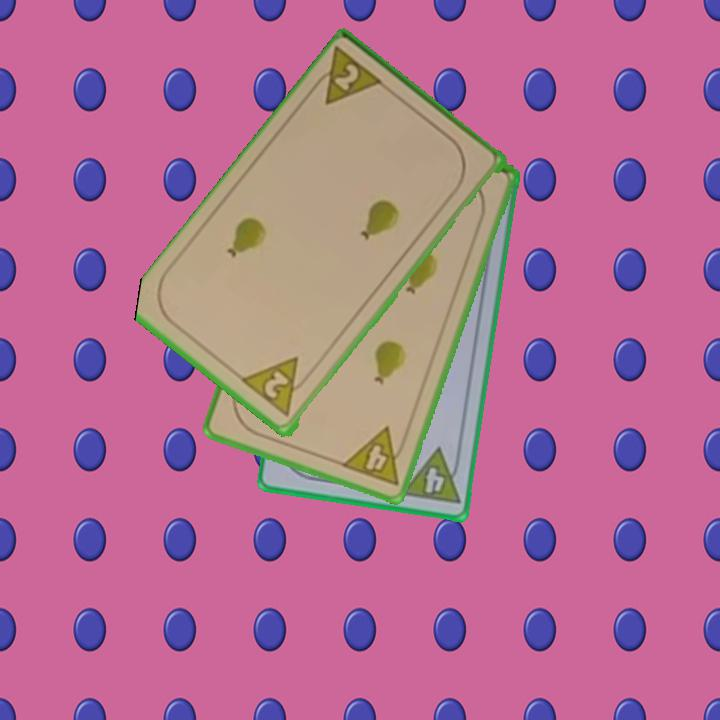2p: (306, 45, 388, 109), (239, 353, 315, 422)
4p: (338, 423, 412, 489), (398, 445, 465, 507)
